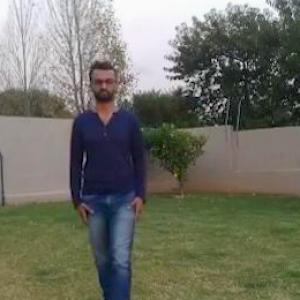follow: (82, 71, 145, 299)
